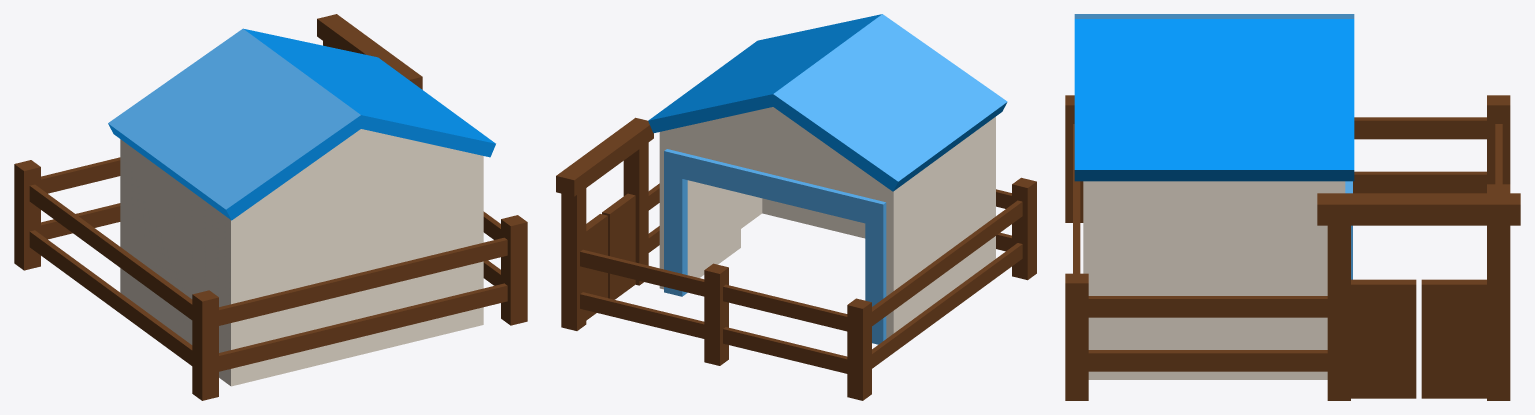
Rendered from Map-Shed-S-B.fbx.
3 renders of one model, left to right at view 1: azimuth 30°, elevation 25°; view 2: azimuth 150°, elevation 25°; view 3: azimuth 270°, elevation 25°, orthographic. The views are drawn at different scales.
Visible parts, largest first — view 1: Map-Shed-S-B; view 2: Map-Shed-S-B; view 3: Map-Shed-S-B.
Part boxes in pixels (x1,y1,x2,y2): Map-Shed-S-B: (14,14,527,400); Map-Shed-S-B: (556,14,1036,400); Map-Shed-S-B: (1065,14,1520,400).
Bounding box in the file's own units: 1.76 × 1.25 × 1.79.
